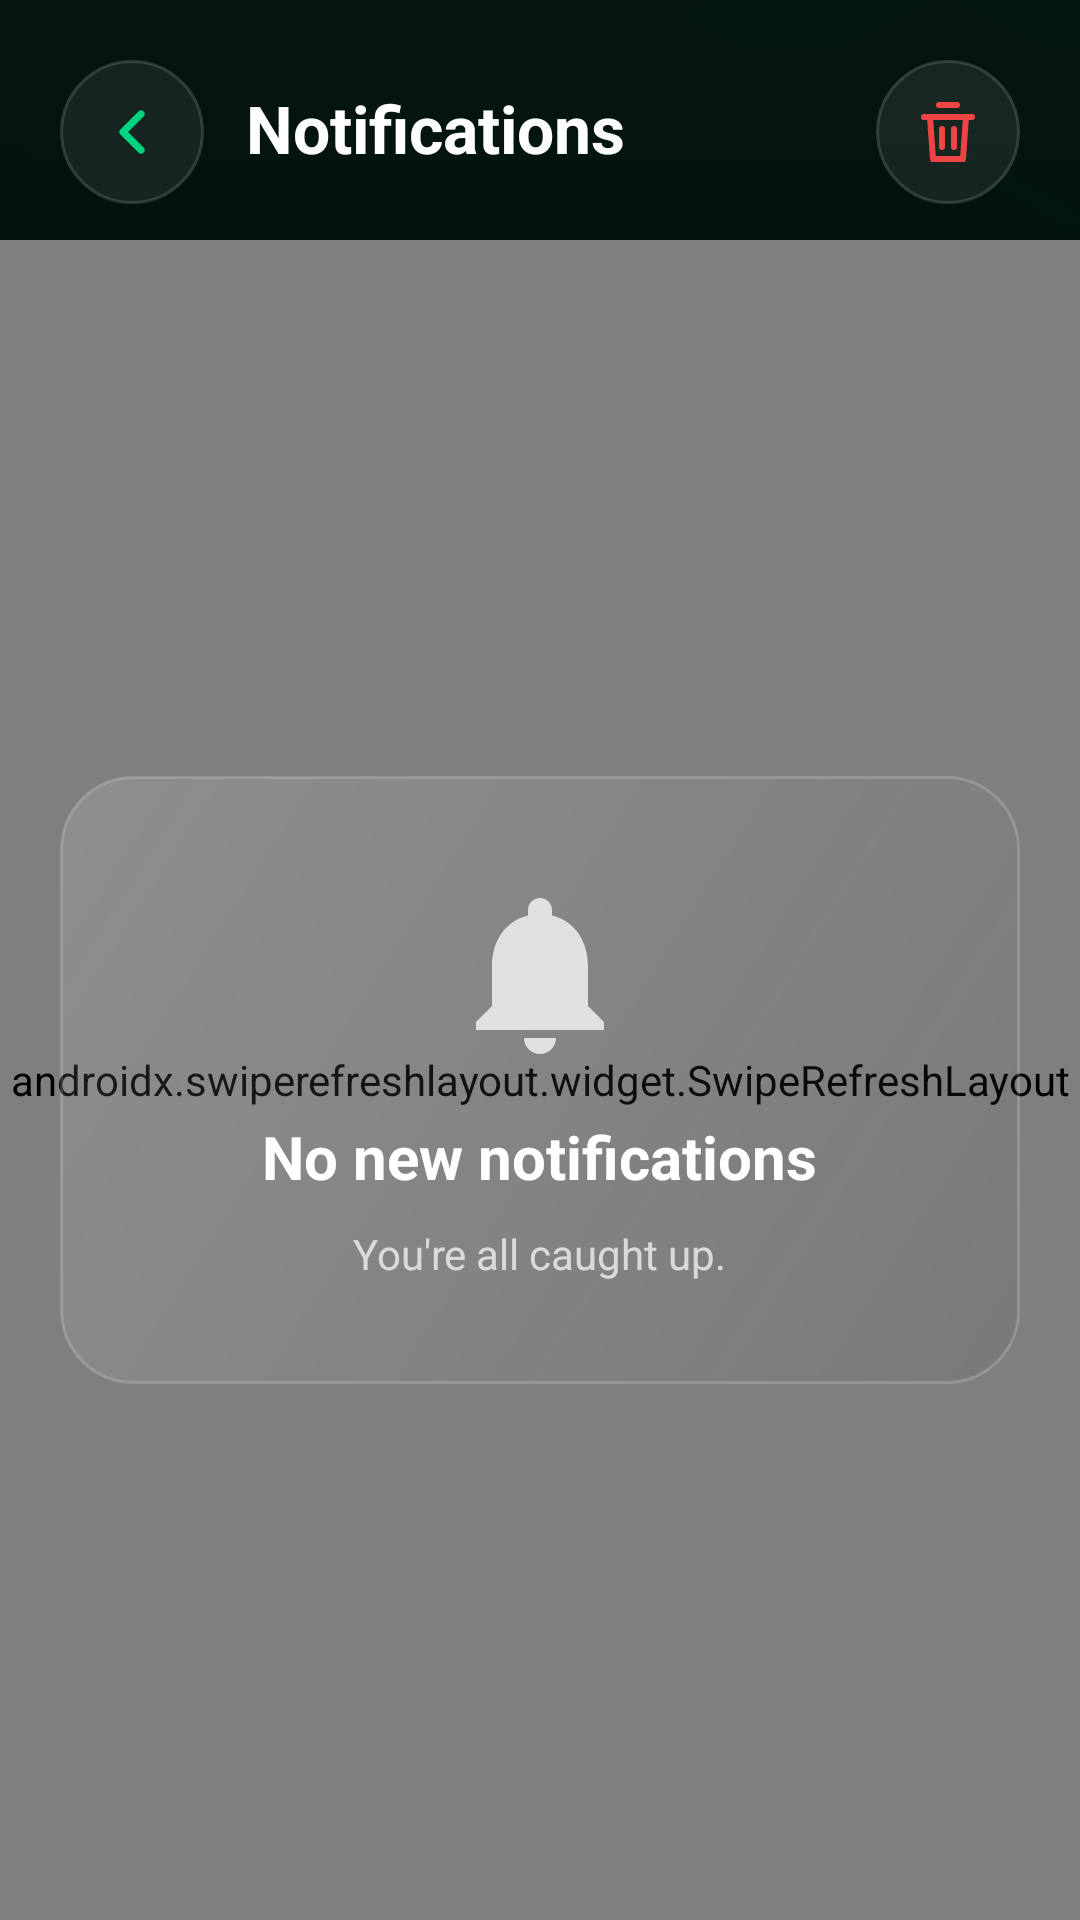

Where to tap for icons on this 1080×1920 app screen, as [x,y]:
Back: [132,132]
Clear all: [948,132]
